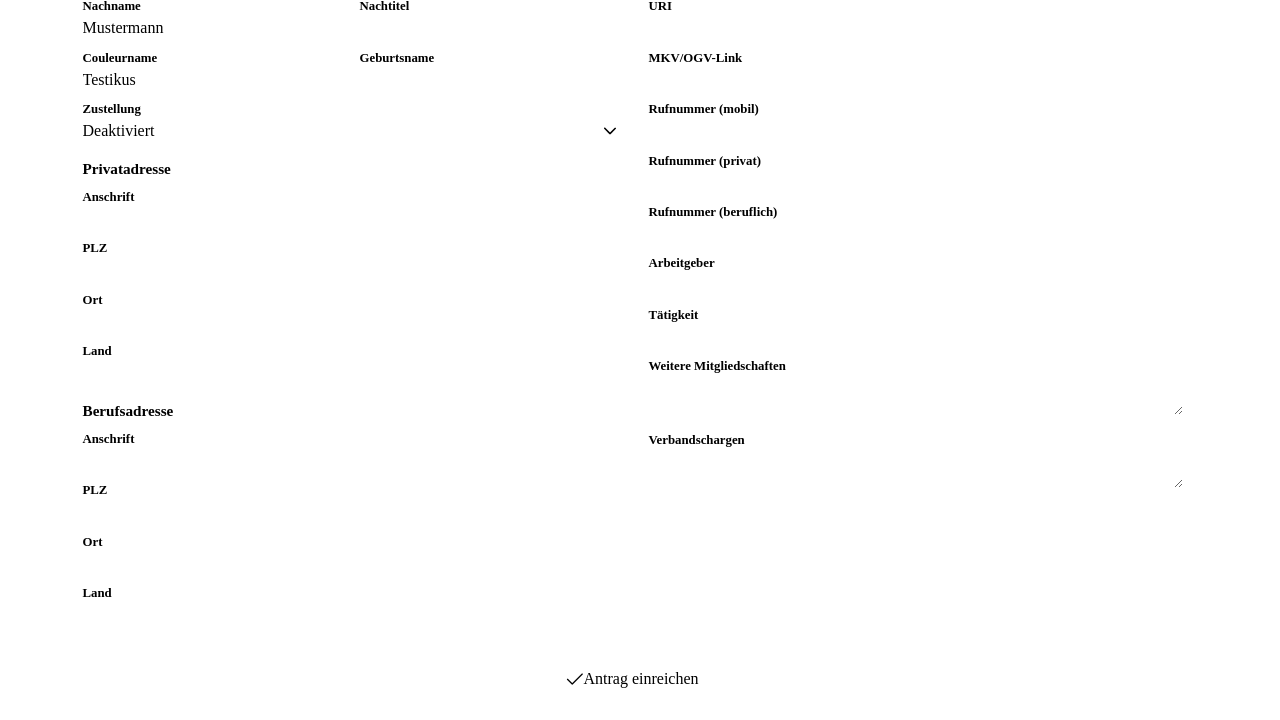
Scenario: MyStammdatenView › shows field-level validation errors from a 422 response
The image size is (1280, 720).
(page scrolled)
Click the button "Antrag einreichen": (633, 678) [566, 670, 699, 688]
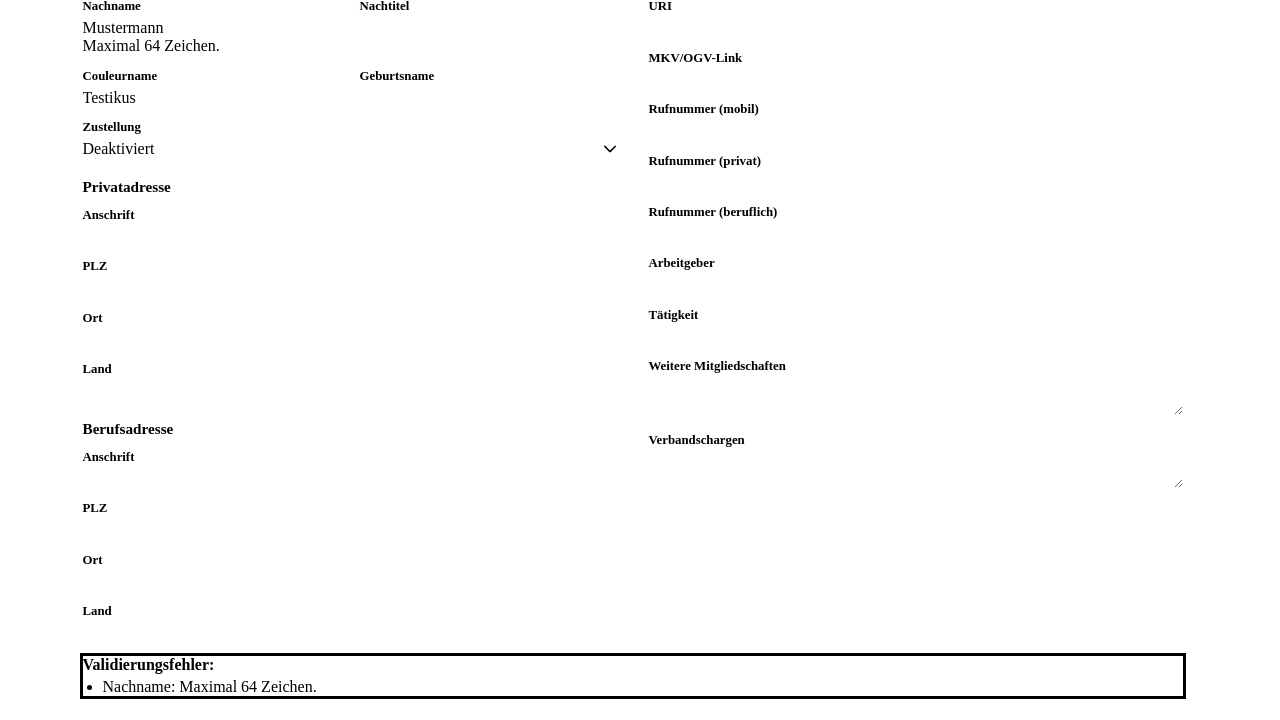
Result: the text "Maximal 64 Zeichen." is shown at [82, 37, 220, 55]
